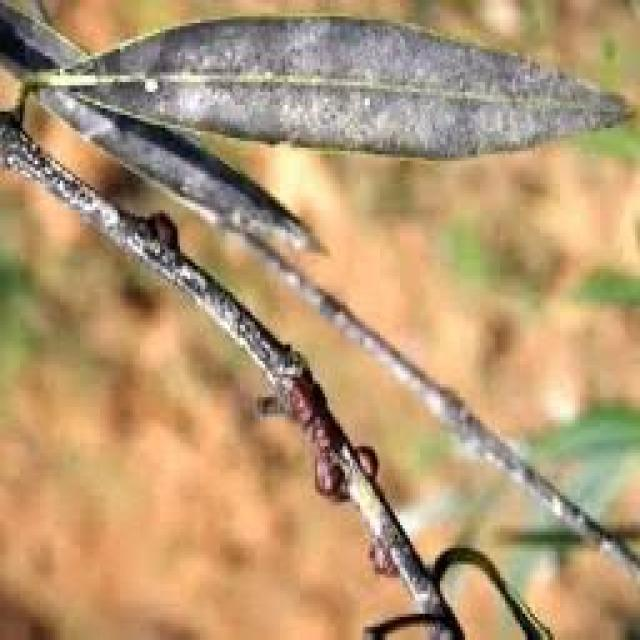Black Scale: (287, 357, 355, 501), (150, 213, 178, 253), (355, 446, 378, 479)
